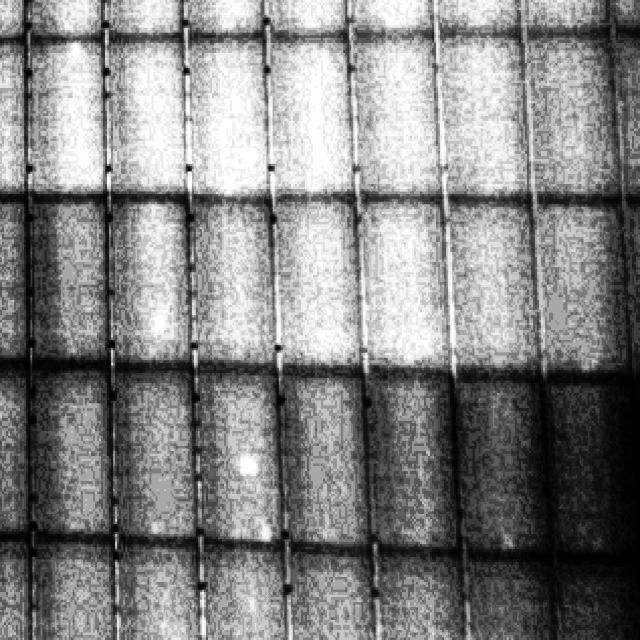PV-modules: (521, 20, 638, 193), (529, 192, 638, 373), (453, 376, 555, 558), (450, 192, 550, 373), (370, 373, 467, 552), (363, 190, 460, 368), (282, 372, 378, 548), (440, 27, 537, 193), (191, 372, 283, 547), (276, 190, 366, 368), (350, 28, 447, 193), (190, 191, 280, 367), (111, 199, 200, 374), (114, 370, 203, 544), (32, 369, 119, 542), (270, 30, 360, 194), (32, 191, 114, 363), (186, 34, 274, 194), (109, 35, 196, 194), (29, 39, 109, 193), (32, 536, 121, 640), (117, 539, 208, 640), (196, 544, 289, 640), (288, 547, 384, 640), (0, 362, 38, 539), (0, 188, 36, 360), (0, 37, 34, 191), (0, 536, 40, 640), (509, 0, 636, 30), (428, 0, 523, 35), (105, 0, 190, 38), (182, 0, 266, 38), (26, 0, 107, 38), (341, 0, 434, 33), (264, 0, 351, 35), (0, 0, 32, 38)
